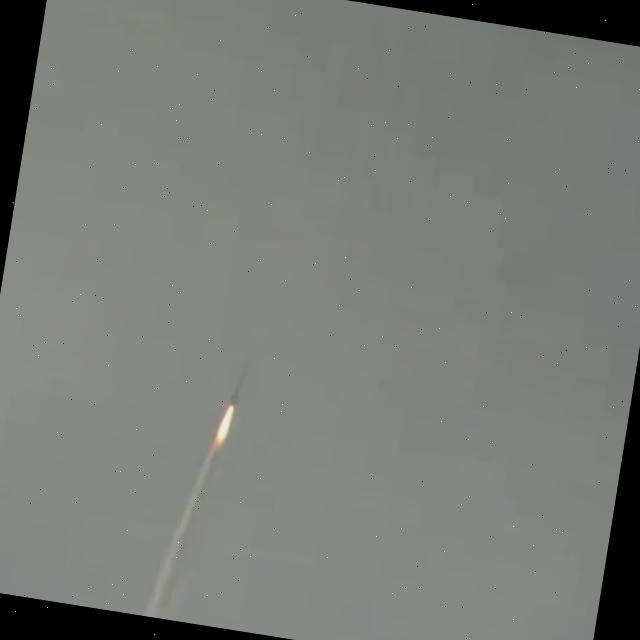smoke_trail_with_rocket: (141, 369, 246, 619)
